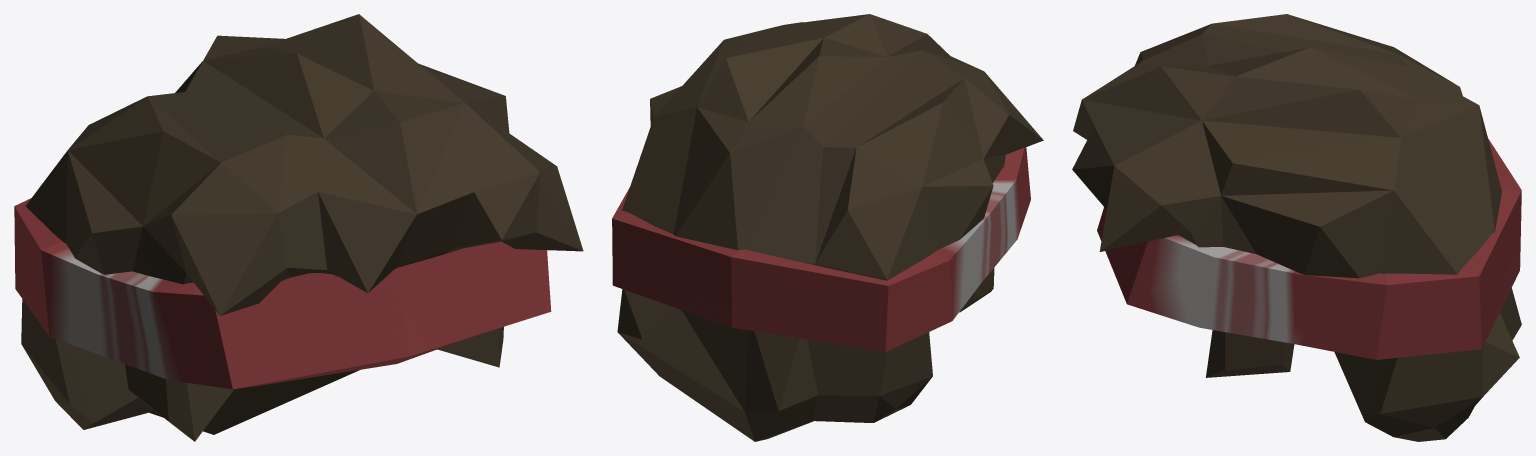
Rendered from SM_Chr_Attach_Hair_Male_11.fbx.
3 renders of one model, left to right at view 1: azimuth 30°, elevation 25°; view 2: azimuth 150°, elevation 25°; view 3: azimuth 270°, elevation 25°, orthographic. The views are drawn at different scales.
Parts seen in each view (by area): view 1: SM_Chr_Attach_Hair_Male_11; view 2: SM_Chr_Attach_Hair_Male_11; view 3: SM_Chr_Attach_Hair_Male_11.
Part boxes in pixels (x1=…): SM_Chr_Attach_Hair_Male_11: x1=14, y1=14, x2=583, y2=441; SM_Chr_Attach_Hair_Male_11: x1=612, y1=14, x2=1043, y2=441; SM_Chr_Attach_Hair_Male_11: x1=1072, y1=14, x2=1521, y2=441.
Size of the model in its own units: 28.28 by 27.61 by 29.54.
